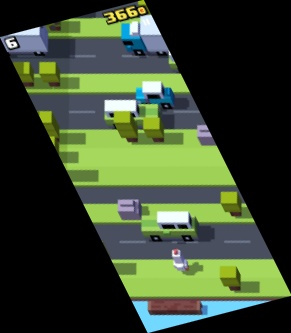car: (141, 210, 198, 242), (105, 101, 161, 132), (134, 81, 177, 109)
duck: (171, 248, 185, 271)
log: (149, 301, 201, 314)
rock: (198, 125, 224, 147), (117, 199, 143, 220)
tree: (34, 110, 61, 145), (113, 111, 138, 142), (219, 265, 243, 292), (37, 62, 62, 86), (12, 61, 35, 87), (220, 192, 244, 215), (41, 137, 61, 164), (143, 117, 164, 142)
truck: (122, 14, 200, 57), (1, 22, 49, 56)
water: (131, 301, 272, 333)
